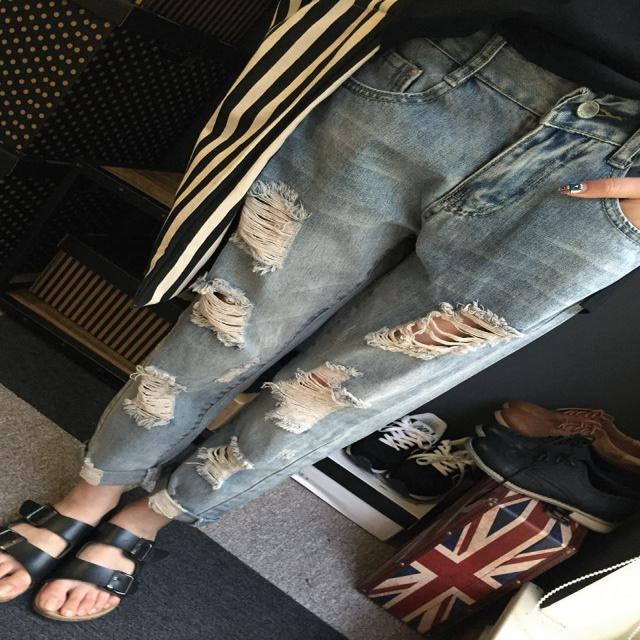trousers: (69, 2, 635, 530)
